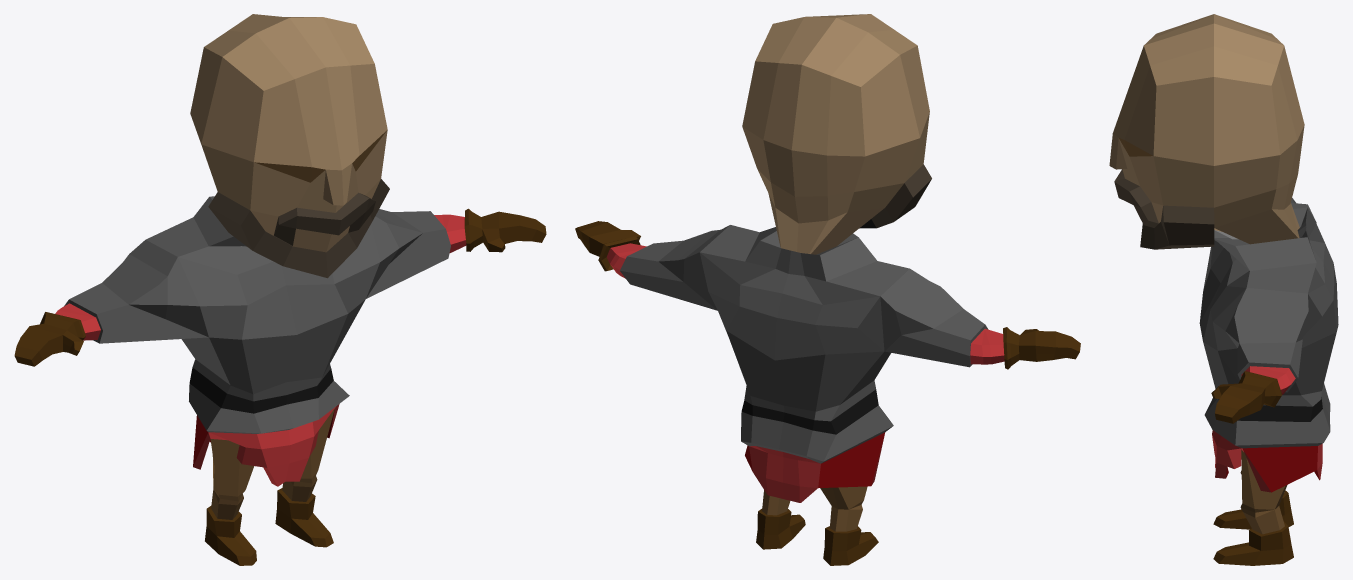
Rendered from SaxonSoldier.fbx.
The picture shows the model from 3 angles, left to right: view 1: azimuth 30°, elevation 25°; view 2: azimuth 150°, elevation 25°; view 3: azimuth 270°, elevation 25°; orthographic projection. The views are drawn at different scales.
Visible parts, largest first — view 1: Saxon.001; view 2: Saxon.001; view 3: Saxon.001.
Boxes of the visible parts, box(x1,y1,x2,y2) form: Saxon.001: box(14, 14, 546, 565); Saxon.001: box(575, 14, 1080, 565); Saxon.001: box(1109, 14, 1338, 565).
Bounding box in the file's own units: 136 × 132 × 52.65.
Materials: 1 (1 with a texture image).
